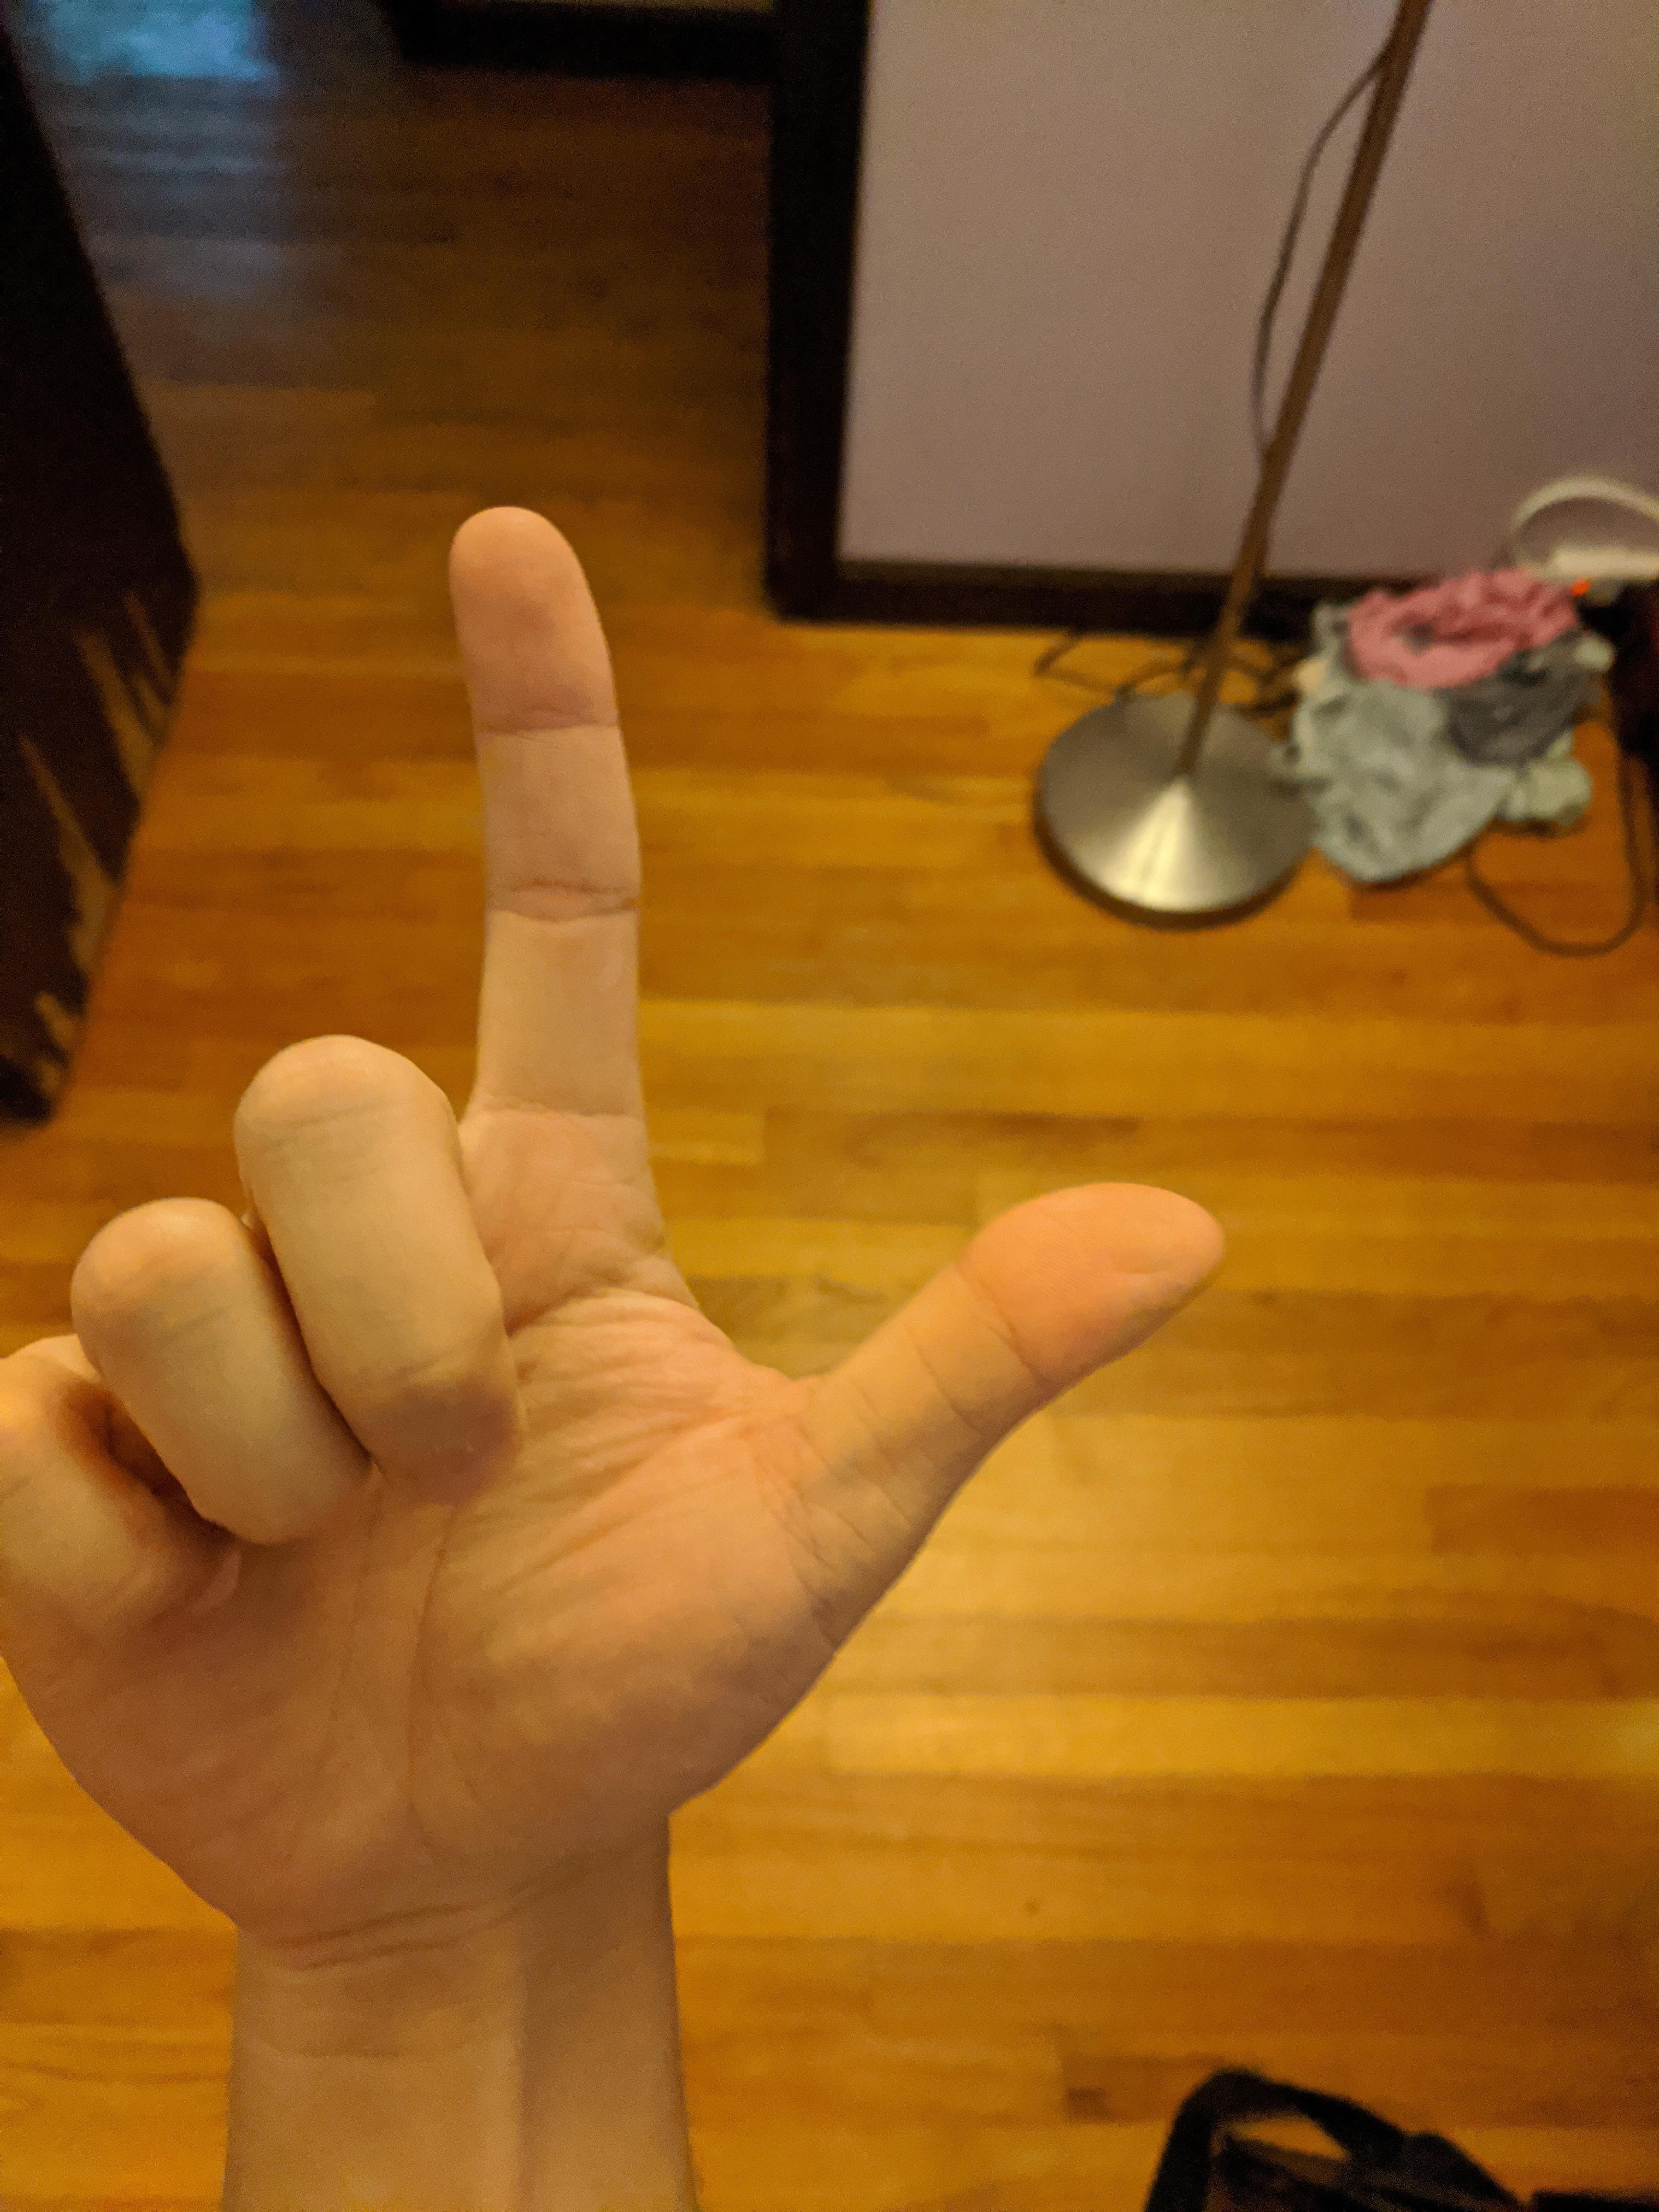L: (0, 475, 1249, 1963)
